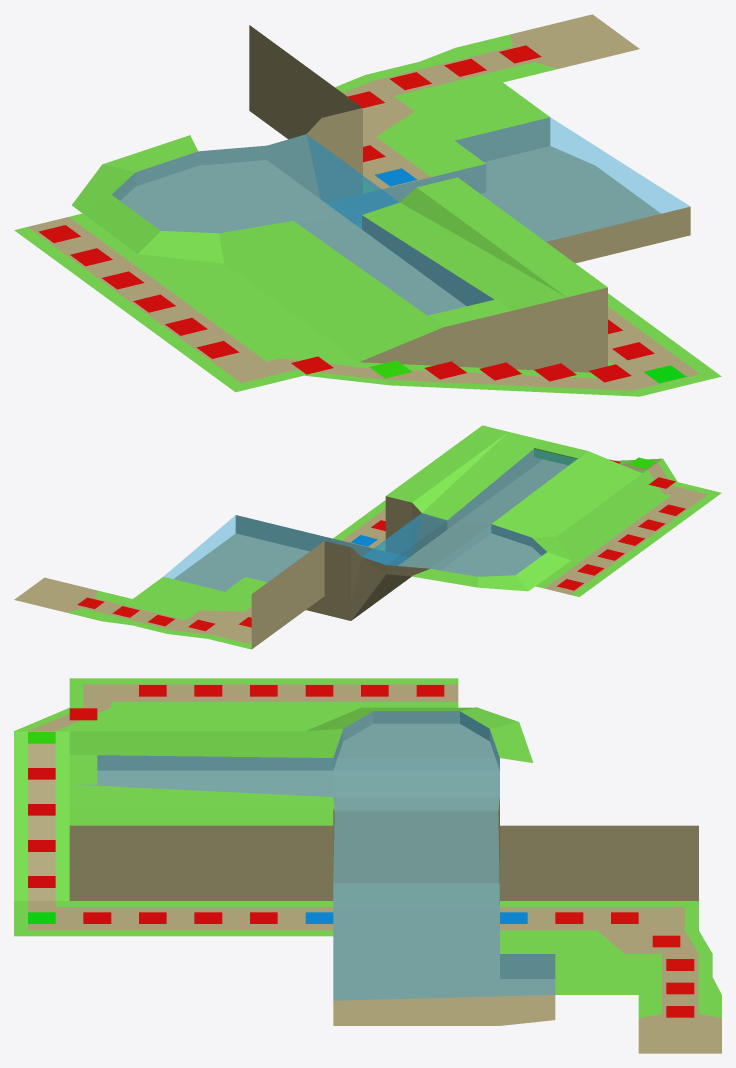
The model's file is startGreyBox.fbx.
The picture shows the model from 3 angles, top to bottom: view 1: azimuth 30°, elevation 25°; view 2: azimuth 150°, elevation 25°; view 3: azimuth 270°, elevation 25°; orthographic projection. The views are drawn at different scales.
Visible parts, largest first — view 1: Plane; view 2: Plane; view 3: Plane.
Boxes of the visible parts, left/top/right/bottom form: Plane: left=14, top=14, right=721, bottom=396; Plane: left=14, top=425, right=721, bottom=649; Plane: left=14, top=678, right=721, bottom=1053.
Bounding box in the file's own units: 5319 × 802 × 5100.
